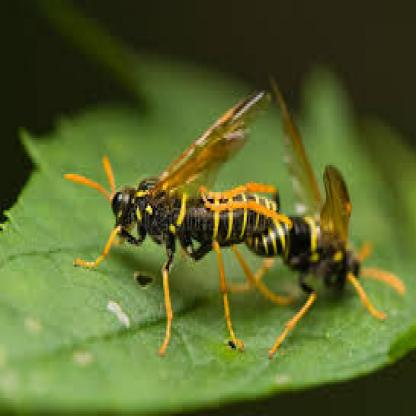sawfly: (65, 83, 289, 354), (232, 82, 414, 365)
